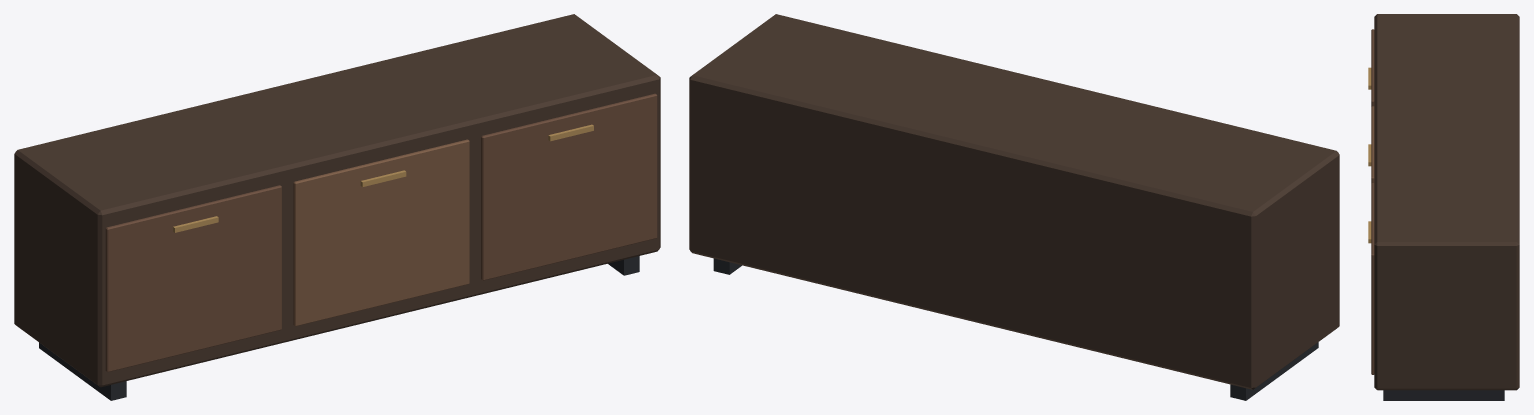
File: tv_cabinet.glb
3 views of the same model, side by side, from view 1: azimuth 30°, elevation 25°; view 2: azimuth 150°, elevation 25°; view 3: azimuth 270°, elevation 25° (orthographic). The views are drawn at different scales.
Visible parts, largest first — view 1: tv_cabinet; view 2: tv_cabinet; view 3: tv_cabinet.
Boxes of the visible parts, box(x1,y1,x2,y2) form: tv_cabinet: box(14, 14, 660, 400); tv_cabinet: box(689, 14, 1339, 400); tv_cabinet: box(1368, 14, 1519, 400).
Size of the model in its own units: 1.8 by 0.6 by 0.5.
